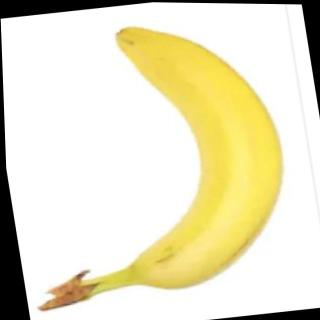banana: (91, 8, 303, 296)
